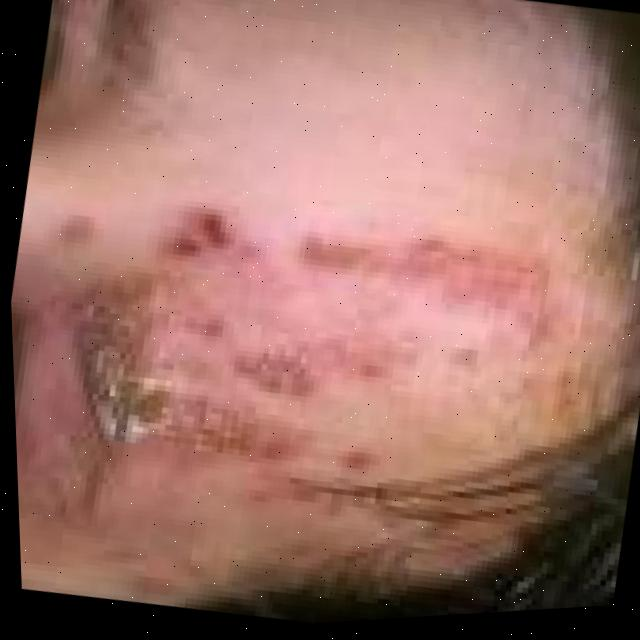Shingles: (52, 183, 562, 524)
